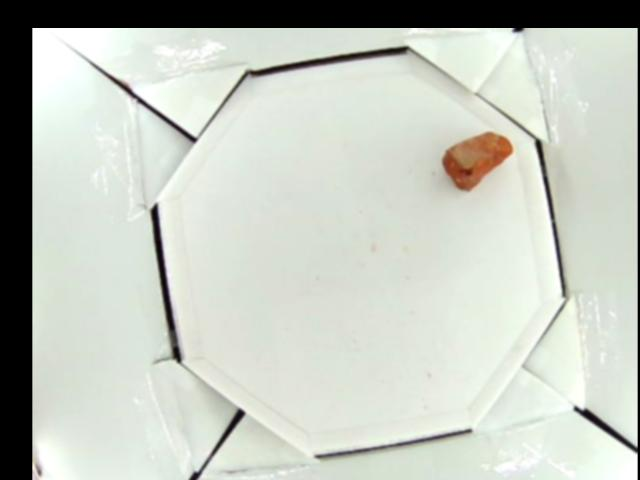Brisk: (442, 130, 515, 188)
